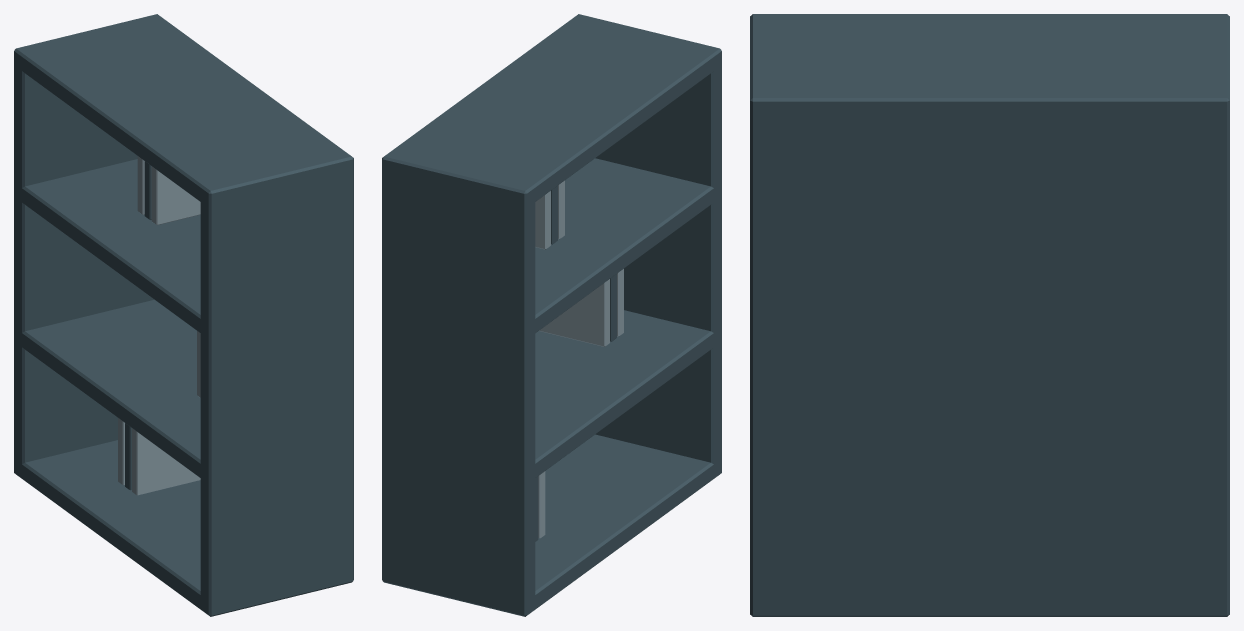
The model's file is etagere_perimetre.glb.
The picture shows the model from 3 angles, left to right: view 1: azimuth 30°, elevation 25°; view 2: azimuth 150°, elevation 25°; view 3: azimuth 270°, elevation 25°; orthographic projection. The views are drawn at different scales.
Visible parts, largest first — view 1: etagere_perimetre; view 2: etagere_perimetre; view 3: etagere_perimetre.
Part boxes in pixels (box(x1,y1,x2,y2)): etagere_perimetre: box(14, 14, 353, 616); etagere_perimetre: box(382, 14, 721, 616); etagere_perimetre: box(750, 14, 1229, 616).
Bounding box in the file's own units: 0.66 × 1.85 × 1.55.
Materials: 1 (1 with a texture image).
